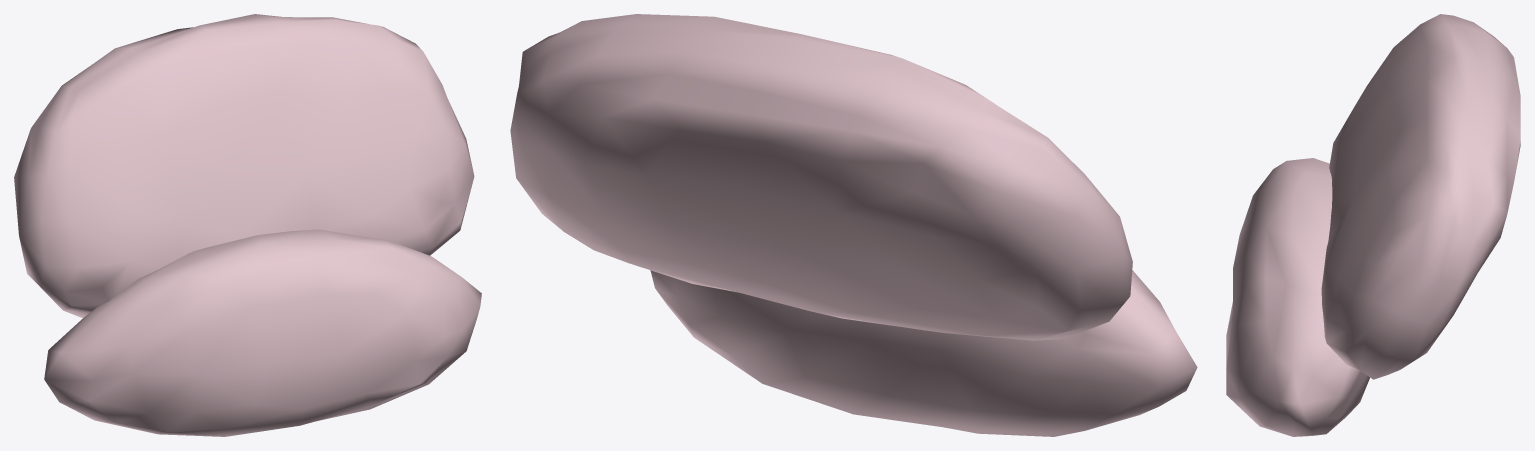
The model's file is bedroom_pillow_plush.glb.
3 renders of one model, left to right at view 1: azimuth 30°, elevation 25°; view 2: azimuth 150°, elevation 25°; view 3: azimuth 270°, elevation 25°, orthographic. The views are drawn at different scales.
Bounding box in the file's own units: 0.66 × 0.4553 × 0.3676.
